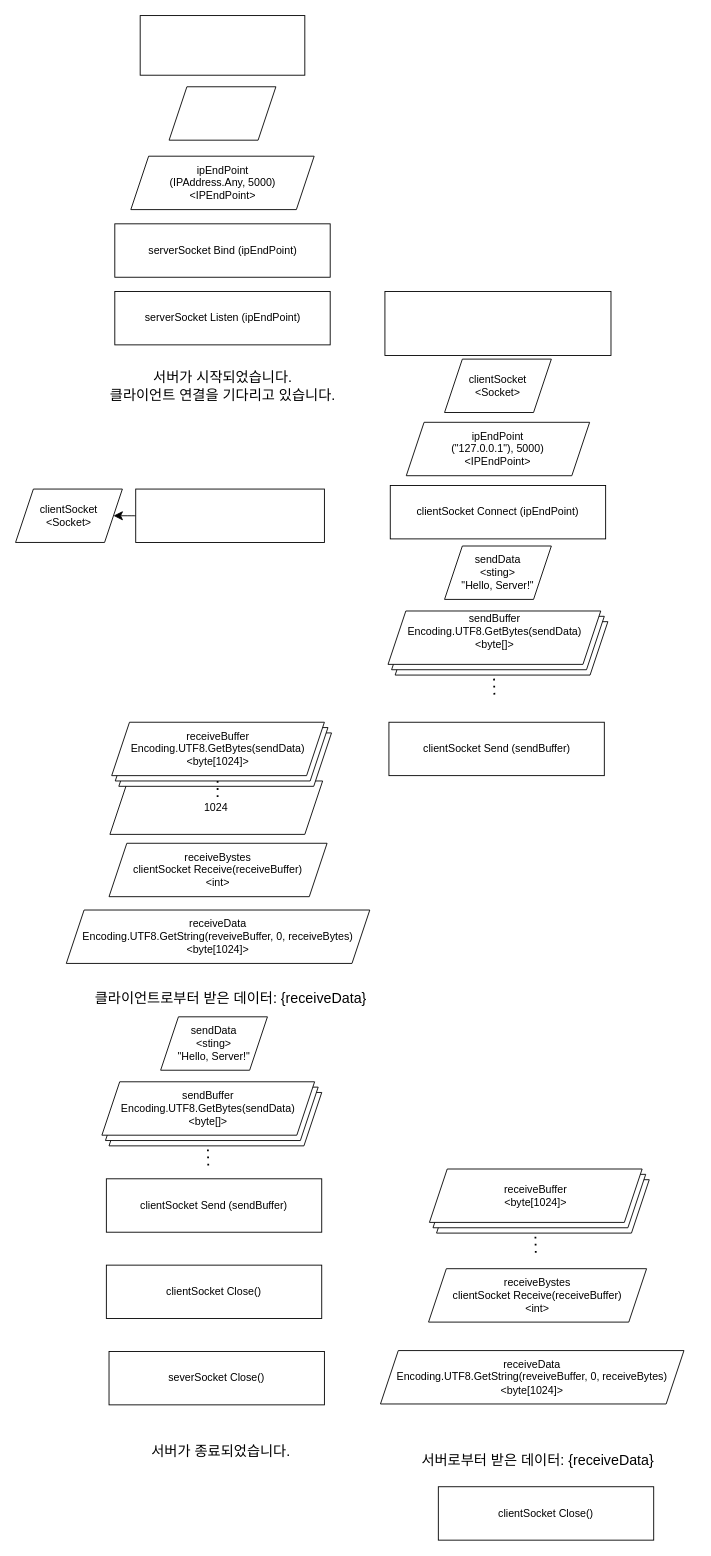
Image size: 711x1556. Some labels were removed from this diagram. Here are the shapes that lost their labels. From the top down, the box of each, then its label:
(139, 15, 305, 75): TcpServer
(168, 86, 276, 140): serverSocket <Socket>
(384, 291, 611, 356): TcpClient
(135, 488, 324, 542): serverSocket Accept()
